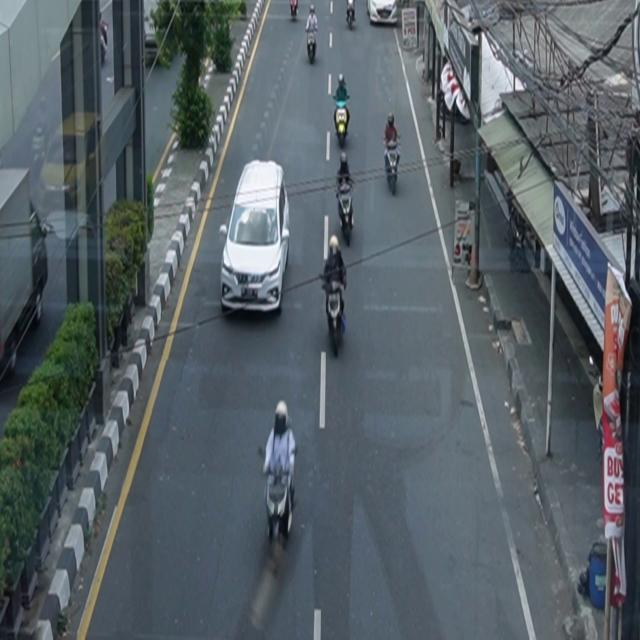car: (219, 160, 291, 316), (367, 1, 398, 26)
truck: (1, 167, 50, 382)
